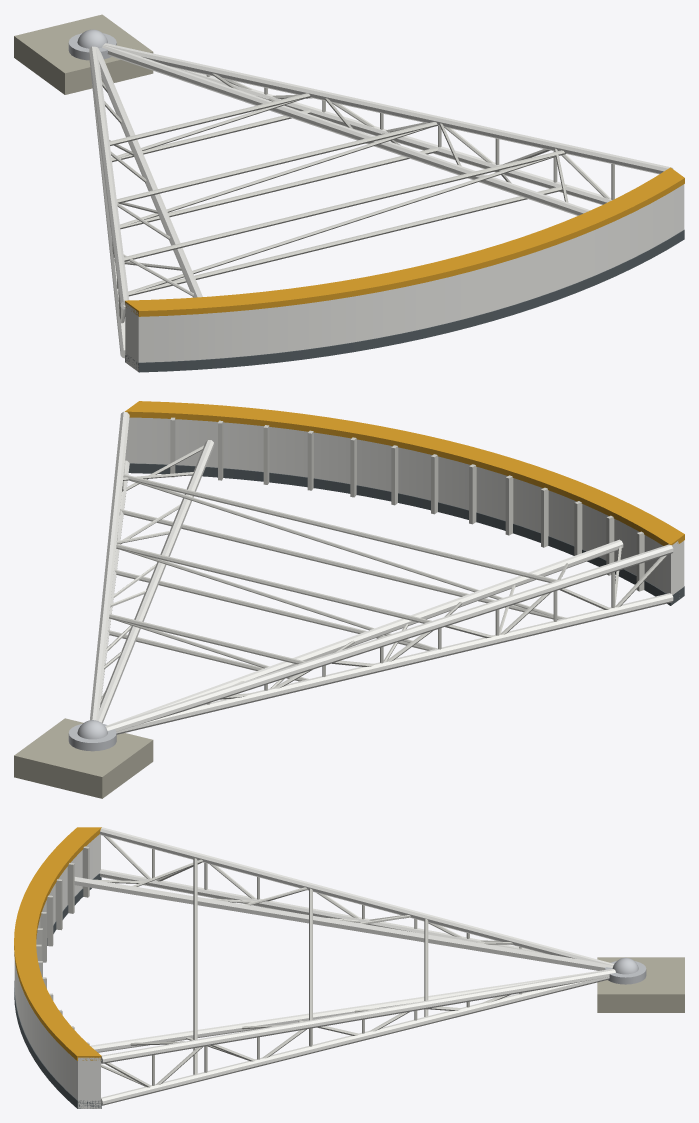
Rendered from maeslantkering.glb.
3 renders of one model, top to bottom at view 1: azimuth 30°, elevation 25°; view 2: azimuth 150°, elevation 25°; view 3: azimuth 270°, elevation 25°, orthographic. The views are drawn at different scales.
Parts seen in each view (by area): view 1: deur, deurrand, waterlijn, regel121.0, fundatie, regel112.0, regel13.0, regel-121.0, dwars0.1820.0, regel-112.0, dwars0.184.0, dwars0.420.0 (+8 smaller); view 2: deur, deurrand, fundatie, regel-121.0, regel-13.0, waterlijn, regel-112.0, regel121.0, regel112.0, dwars0.1820.0, dwars0.184.0, dwars0.420.0 (+8 smaller); view 3: deurrand, deur, regel-112.0, regel121.0, regel-121.0, regel13.0, fundatie, regel112.0, regel-13.0, waterlijn, dwars0.1820.0, dwars0.420.0 (+1 smaller).
Part boxes in pixels (x1,y1,x2,y2): deur: [125, 184, 684, 371]; deurrand: [125, 167, 684, 316]; waterlijn: [125, 229, 684, 372]; regel121.0: [104, 43, 672, 174]; fundatie: [14, 14, 153, 94]; regel112.0: [102, 45, 589, 215]; regel13.0: [172, 67, 611, 204]; regel-121.0: [89, 46, 129, 309]; dwars0.1820.0: [124, 150, 565, 261]; regel-112.0: [96, 47, 202, 297]; dwars0.184.0: [128, 185, 567, 296]; dwars0.420.0: [116, 122, 437, 203]; deur: [125, 417, 684, 597]; deurrand: [125, 401, 684, 545]; fundatie: [14, 718, 153, 798]; regel-121.0: [105, 544, 673, 731]; regel-13.0: [116, 593, 673, 734]; waterlijn: [128, 463, 684, 605]; regel-112.0: [105, 539, 623, 726]; regel121.0: [90, 411, 129, 720]; regel112.0: [97, 440, 214, 723]; dwars0.1820.0: [123, 474, 557, 582]; dwars0.184.0: [120, 509, 567, 619]; dwars0.420.0: [116, 544, 431, 623]; deurrand: [14, 827, 101, 1060]; deur: [14, 834, 100, 1108]; regel-112.0: [74, 877, 613, 970]; regel121.0: [101, 969, 615, 1063]; regel-121.0: [100, 827, 614, 965]; regel13.0: [101, 977, 609, 1105]; fundatie: [597, 957, 684, 1012]; regel112.0: [90, 969, 612, 1052]; regel-13.0: [99, 869, 543, 953]; waterlijn: [14, 873, 101, 1108]; dwars0.1820.0: [193, 858, 197, 1039]; dwars0.420.0: [309, 888, 312, 1020].
Size of the model in its own units: 213 by 22.6 by 260.
